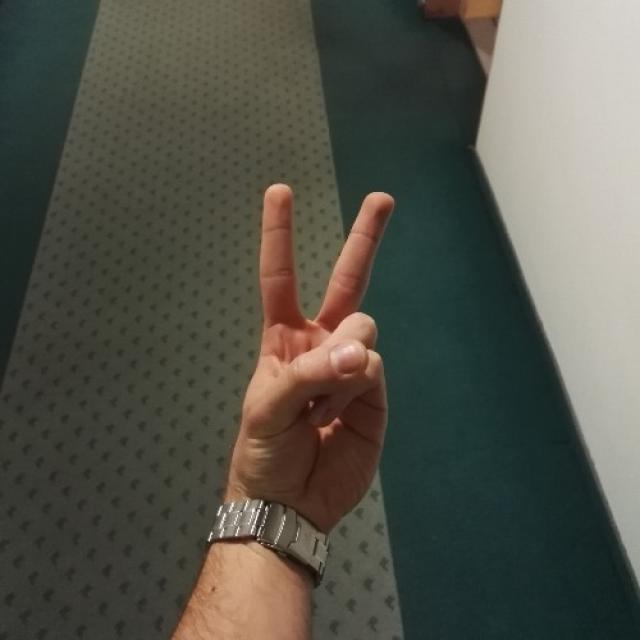scissors: (230, 174, 390, 484)
